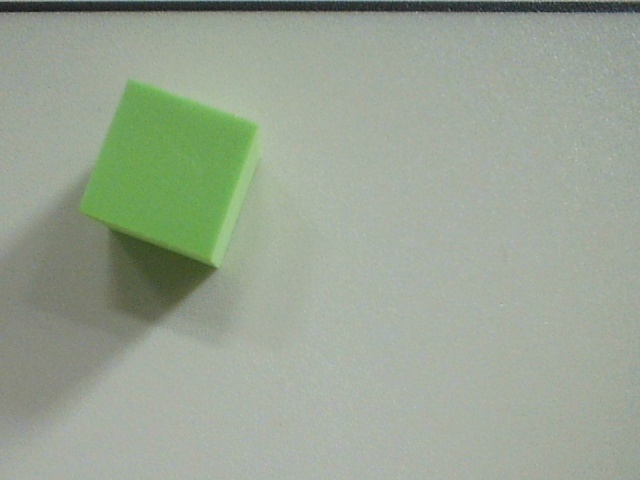greencube: (72, 74, 266, 269)
